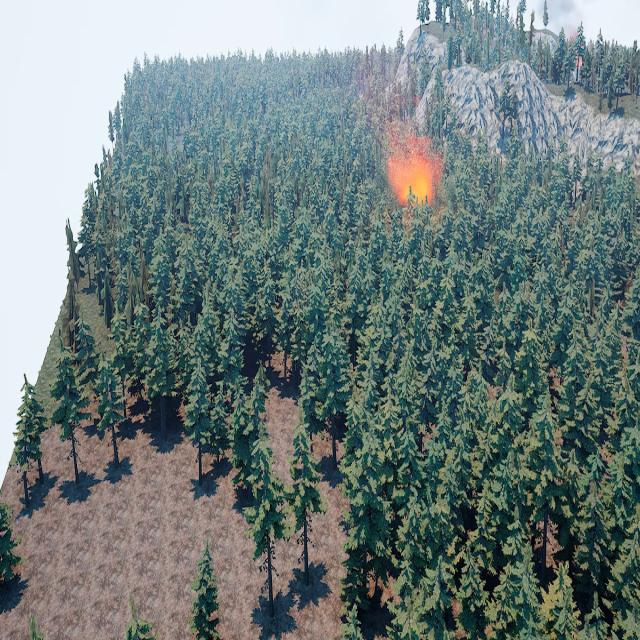fire: (402, 163, 434, 207), (576, 57, 582, 70)
smoke: (359, 37, 442, 196), (540, 0, 583, 54)
